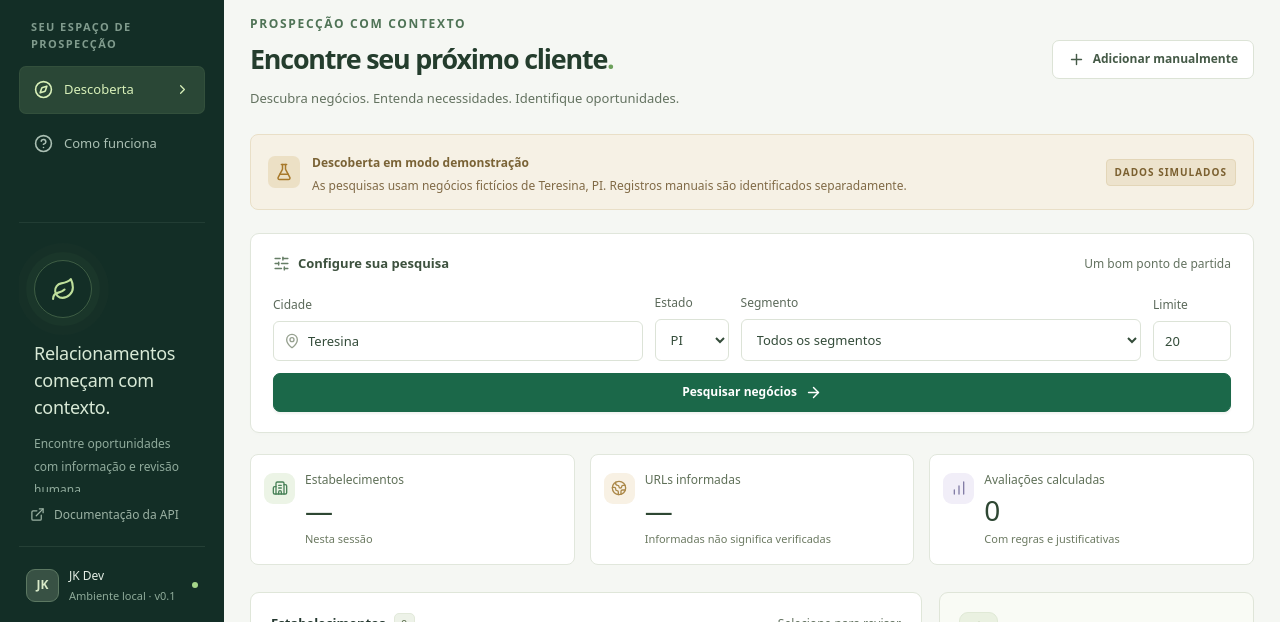
Test: primeira versão do dashboard › calcula score parcial com critérios e cobertura
Step 1. Click the button "Pesquisar negócios" → (752, 392), box [273,373,1231,412]
(page scrolled)
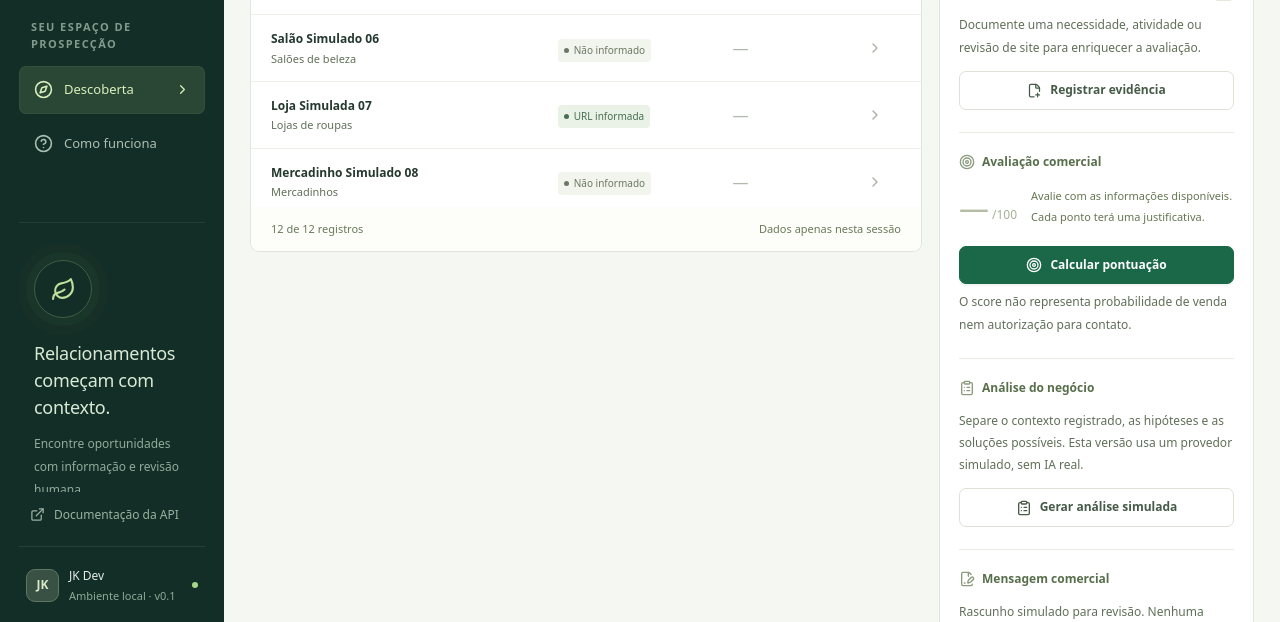
Step 2. Click the button "Calcular pontuação" → (1096, 265), box [959,246,1234,284]
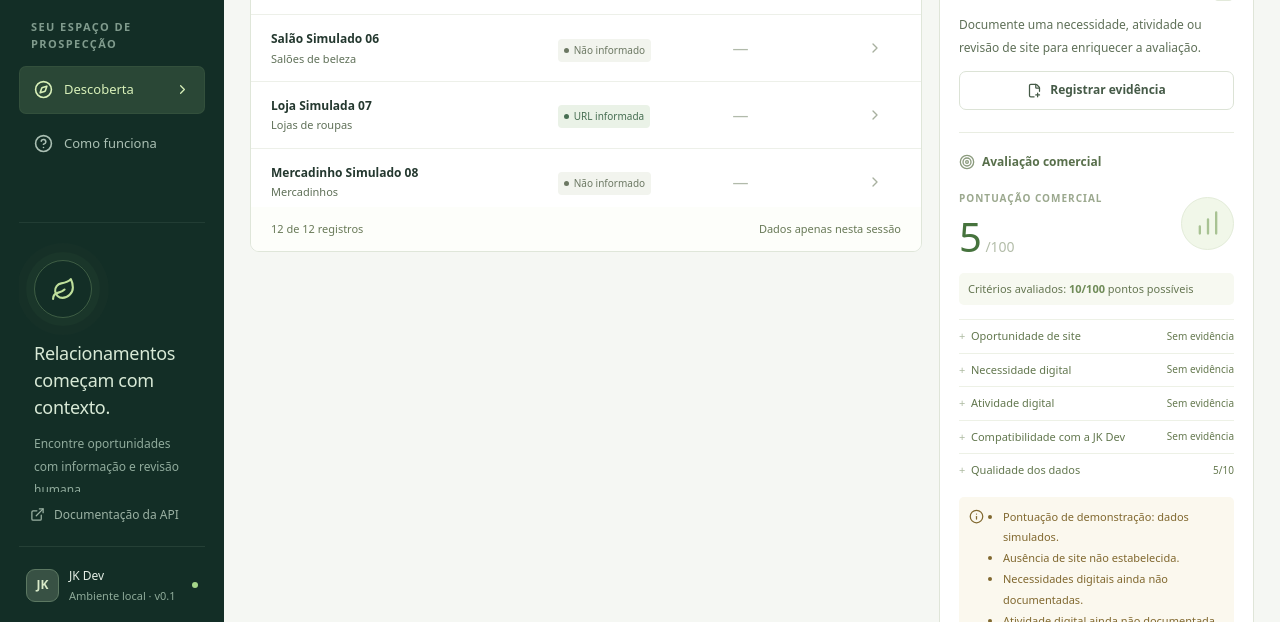
Expected: the text named "Pontuação comercial" reads "5", [959,208,980,264]
Expected: the text "10/100" is shown, [1069,280,1105,296]
Expected: the list item "Ausência de site não estabelecida." is shown, [1003,550,1179,565]
Step 3. Click the text "Qualidade dos dados" → (1020, 470), box [959,462,1080,478]
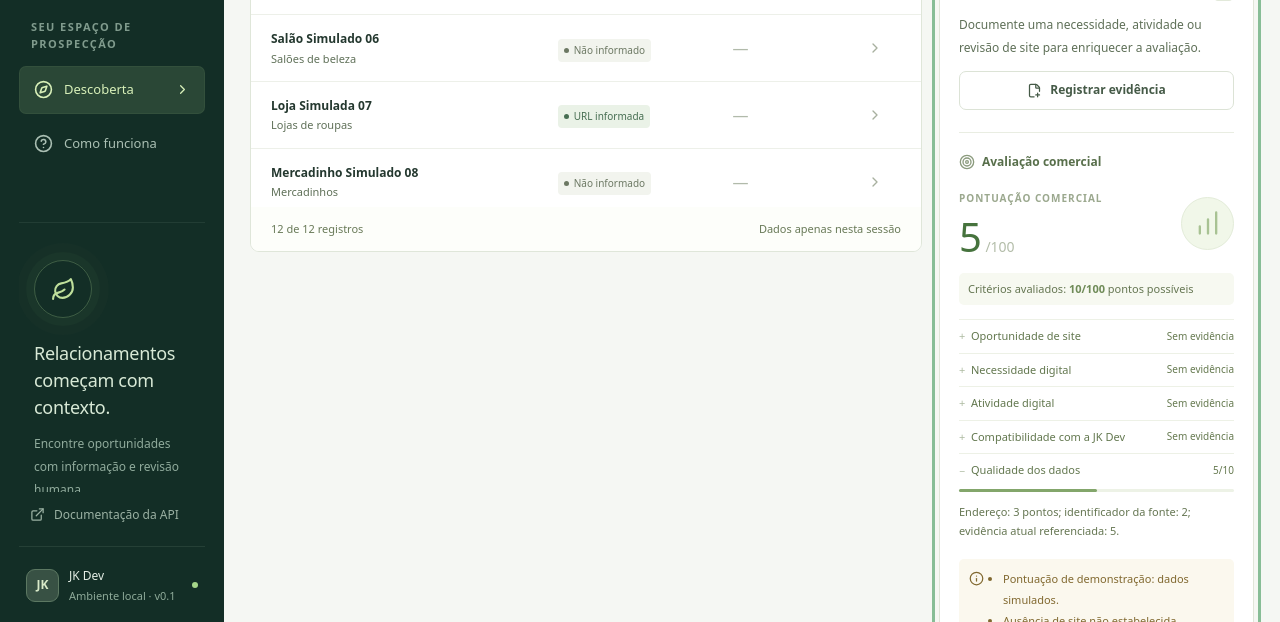
Expected: the text "Endereço: 3 pontos; identificador da fonte: 2; evidência atual referenciada: 5." is shown, [959,504,1191,538]
